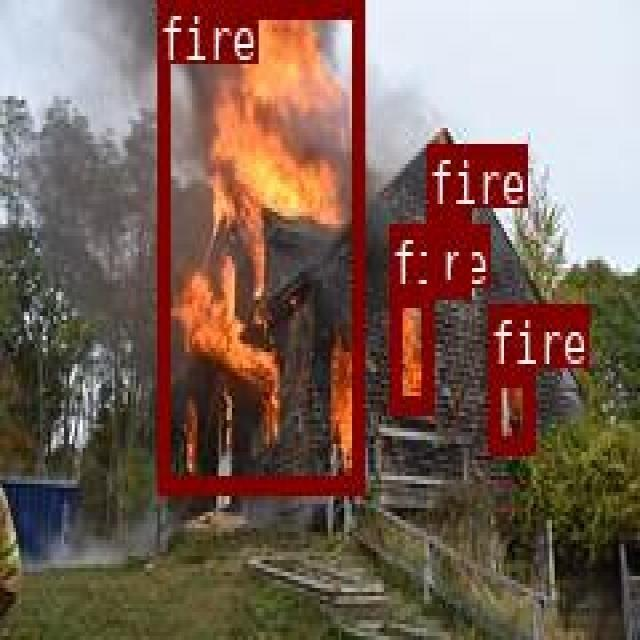fire: (157, 0, 363, 488), (388, 285, 432, 410), (487, 365, 532, 450), (426, 205, 469, 292)
